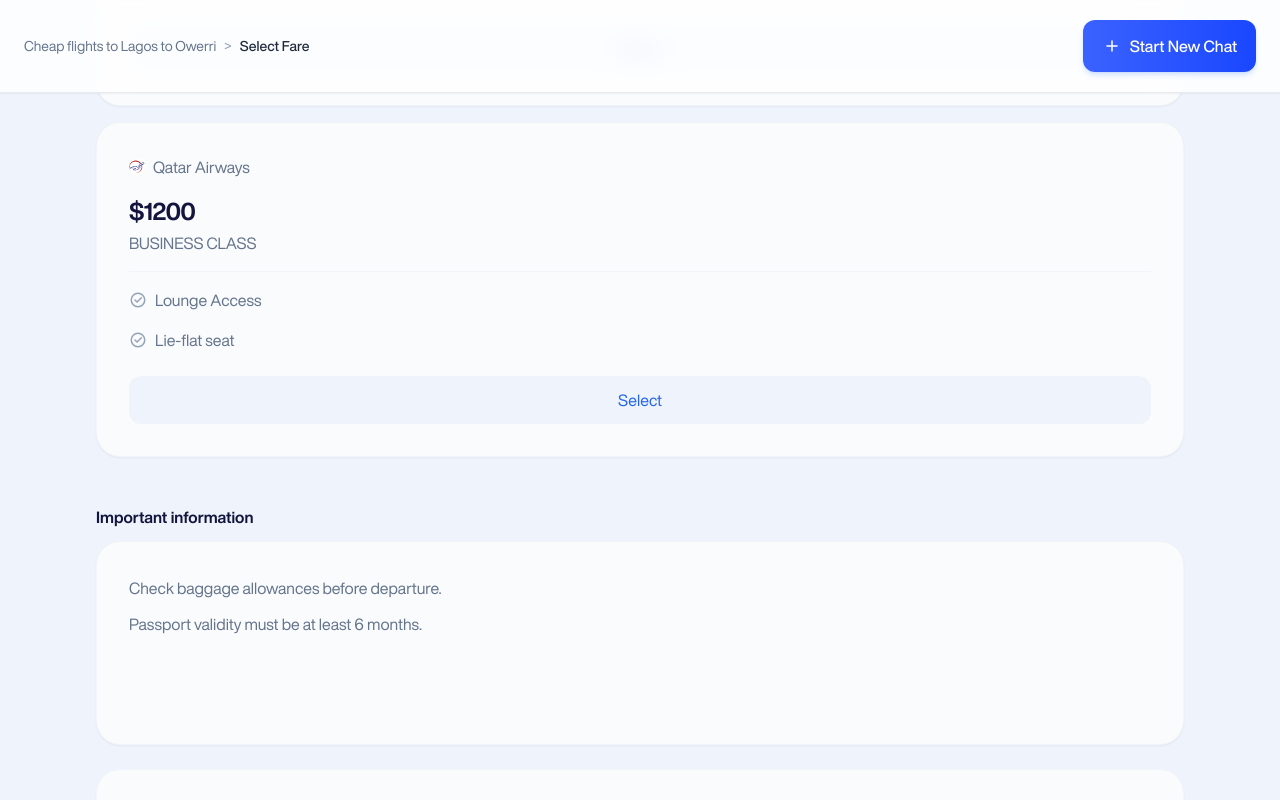
SelectFarePage Component › updates total amount when selecting Business fare
The width and height of the screenshot is (1280, 800).
(page scrolled)
Click the button "Select".
click(640, 400)  # box [129,376,1151,424]
(page scrolled)
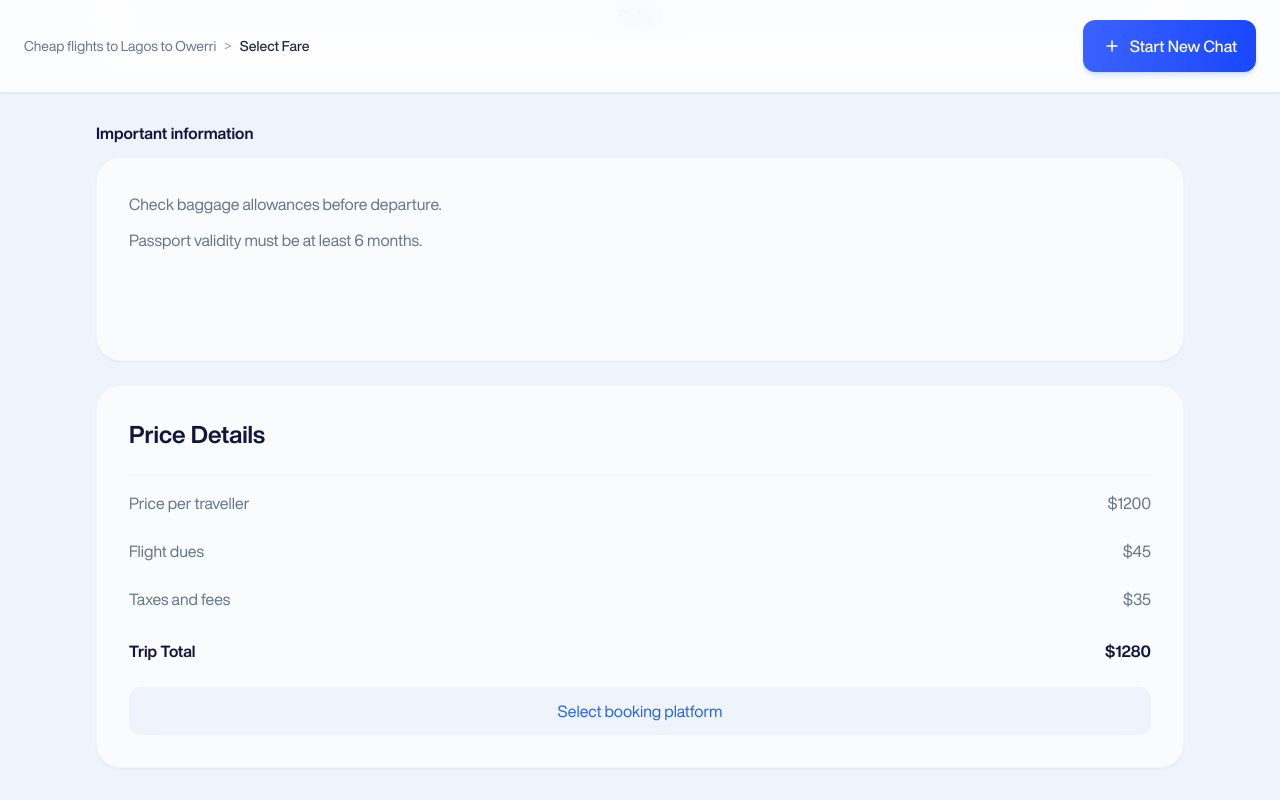
Result: the text "$1280" is shown at [1105,639,1151,663]
